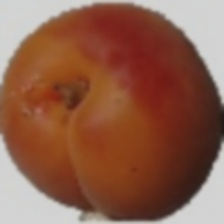apricot: (8, 49, 191, 191)
